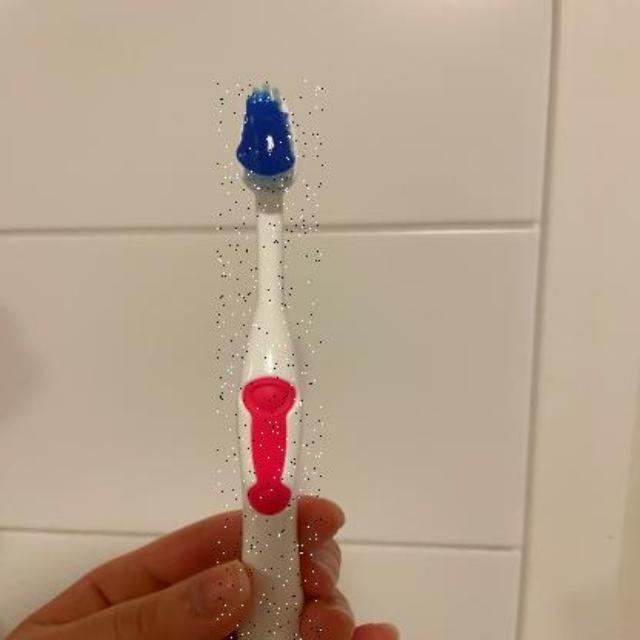toothbrush: (217, 78, 323, 640)
